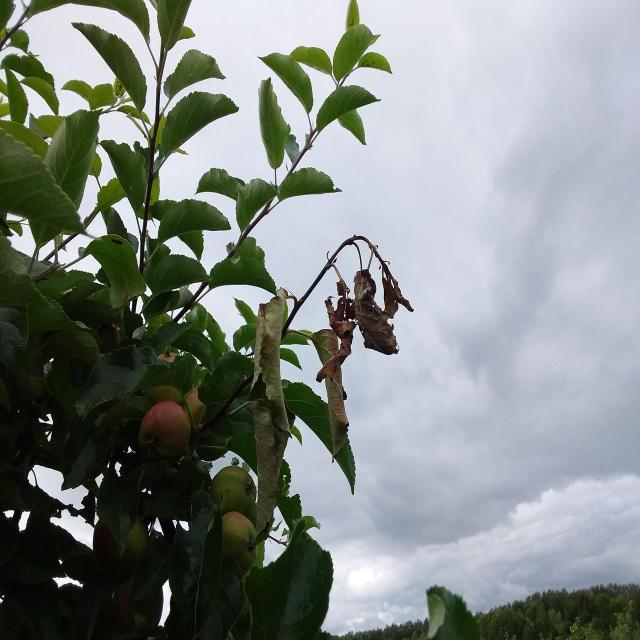-FireBlight-: (256, 298, 346, 458), (328, 232, 415, 359)
